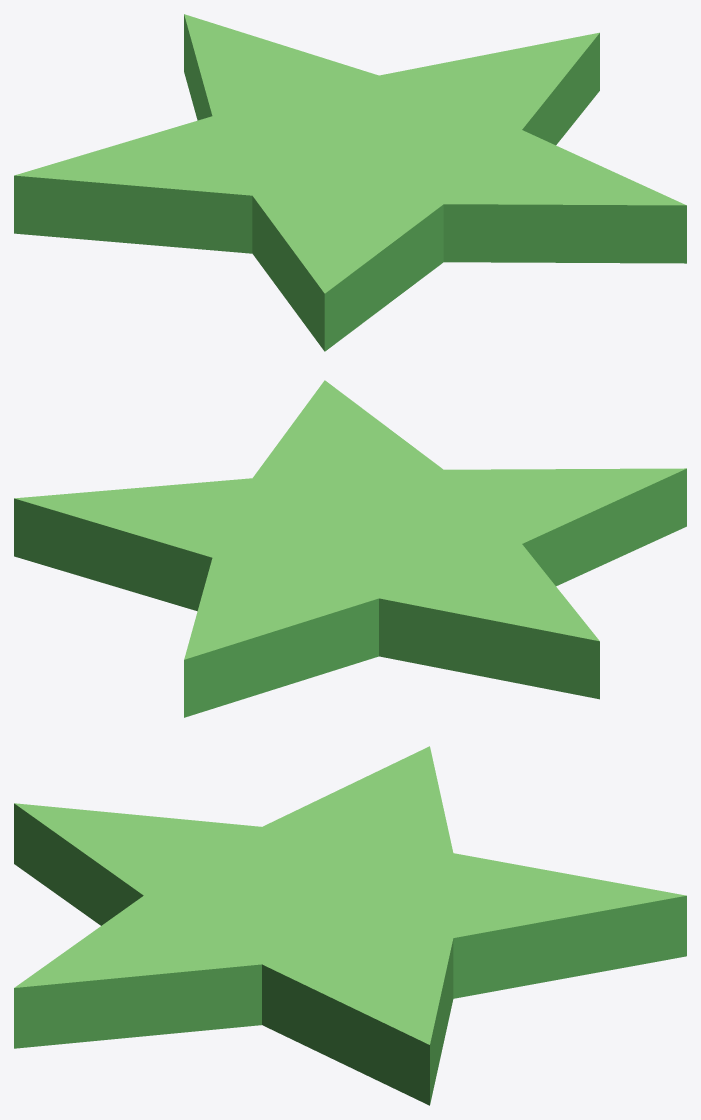
The model's file is bintang_low_poly.glb.
3 views of the same model, one above another, from view 1: azimuth 30°, elevation 25°; view 2: azimuth 150°, elevation 25°; view 3: azimuth 270°, elevation 25° (orthographic). The views are drawn at different scales.
Parts seen in each view (by area): view 1: bintang_low_poly; view 2: bintang_low_poly; view 3: bintang_low_poly.
Part boxes in pixels (box(x1,y1,x2,y2)): bintang_low_poly: box(14, 14, 686, 351); bintang_low_poly: box(14, 380, 686, 717); bintang_low_poly: box(14, 746, 686, 1105).
Size of the model in its own units: 1.9 by 0.18 by 1.81.
